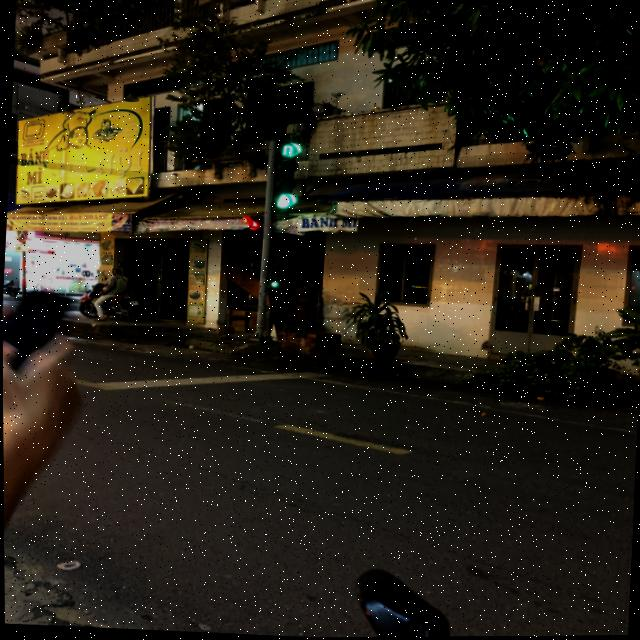Green: (264, 157, 300, 214), (261, 256, 288, 294)
